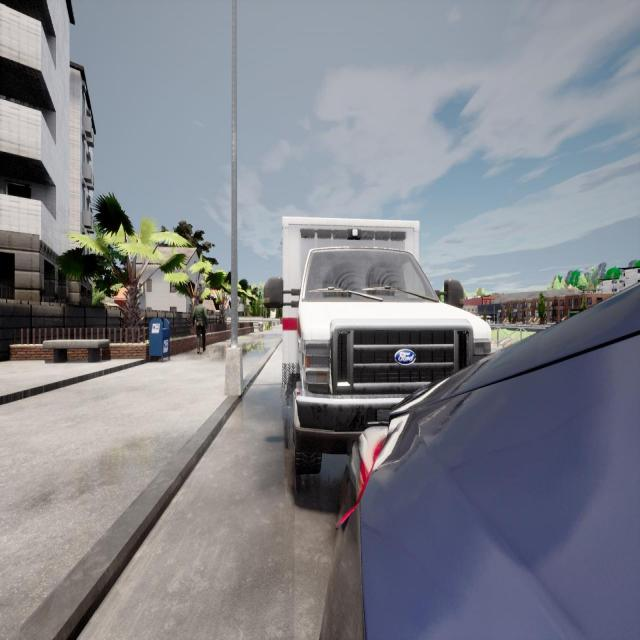Pedestrian: (192, 297, 208, 353)
Vehicle: (319, 285, 640, 640), (264, 218, 490, 478)
